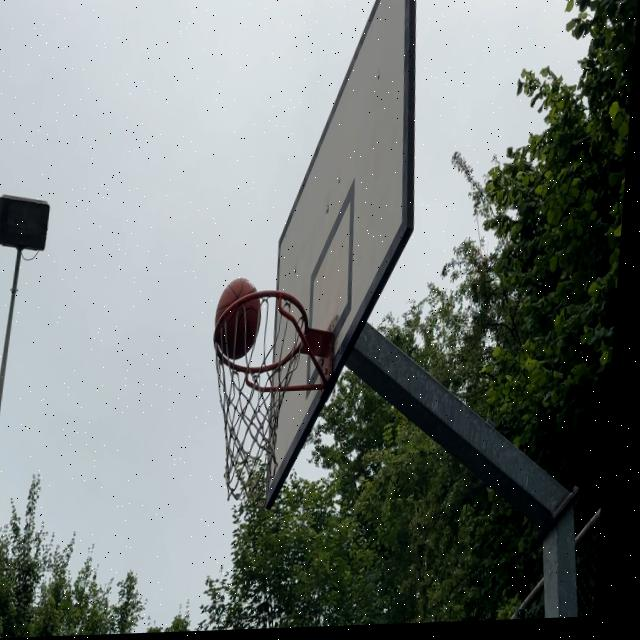rebound_hit: (213, 277, 266, 360)
